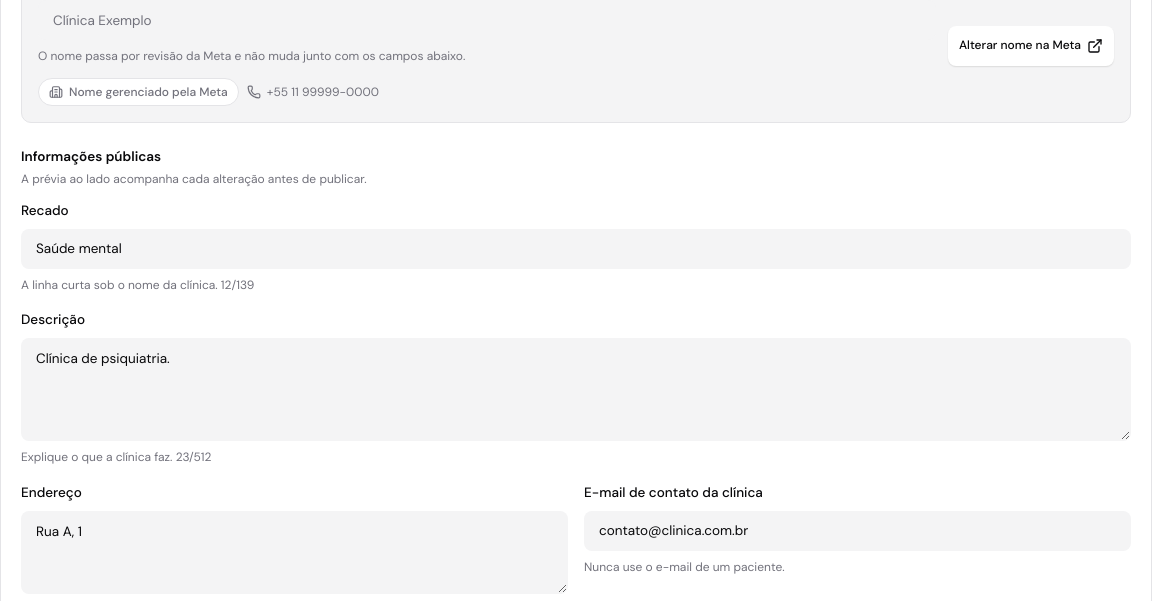
Test: salvar › mostra erro POR CAMPO e PRESERVA o texto digitado
(page scrolled)
Replace the text in the field labelled "Recado" with "texto longo demais": {"x": 576, "y": 249} [21,229,1131,269]
(page scrolled)
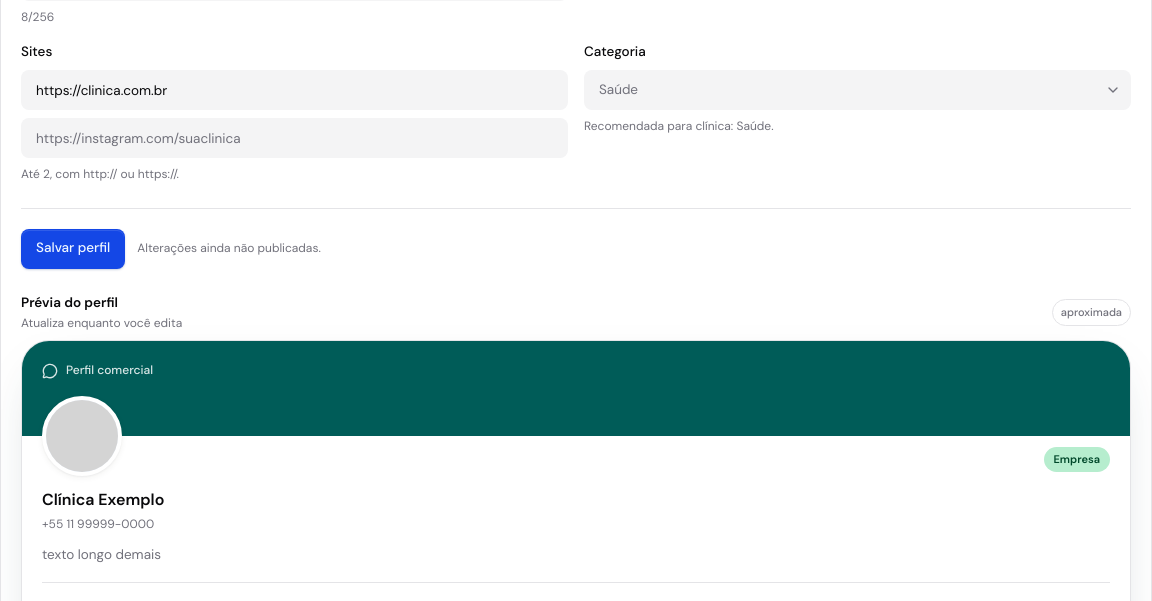
Click the button "Salvar perfil": {"x": 73, "y": 249} [21,229,125,269]
(page scrolled)
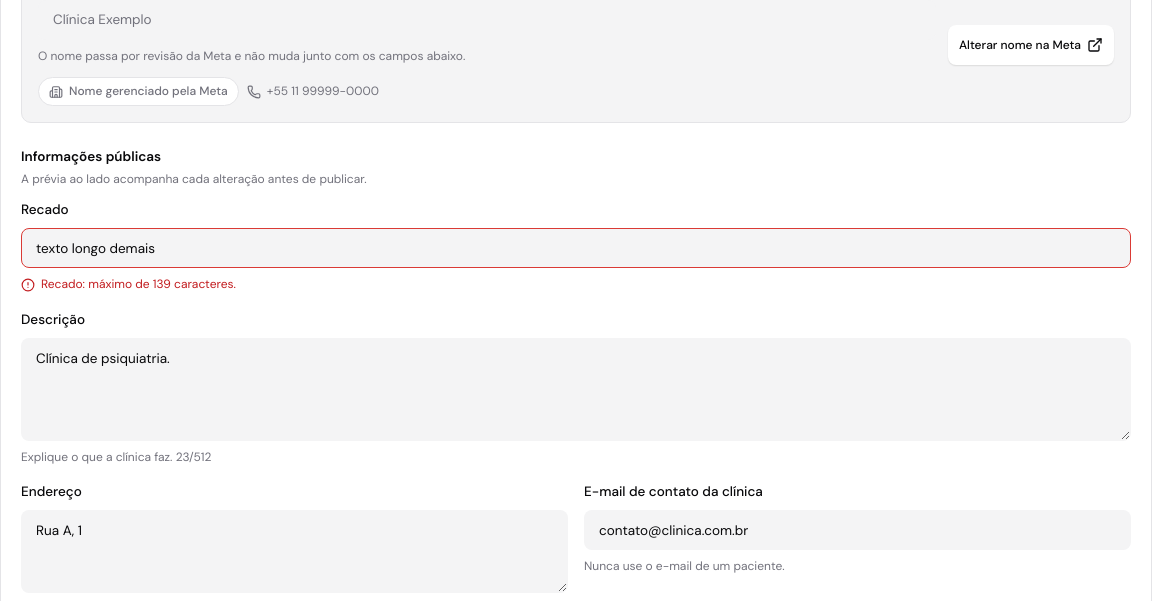
Now the text "Recado: máximo de 139 caracteres." is shown, box [21,276,236,292]
